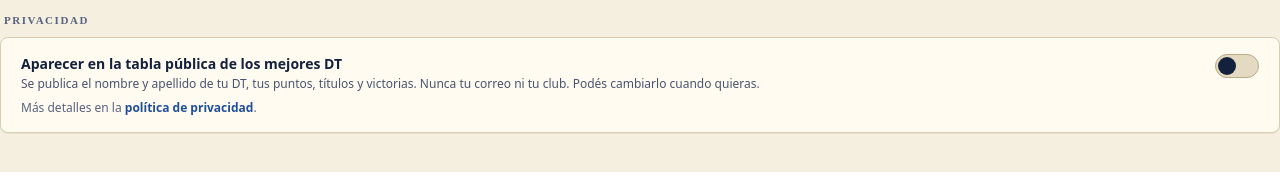
Scenario: privacidad: aparecer en la tabla pública › al activarlo lo guarda; al apagarlo retira el consentimiento
Click the switch named "aparecer en la tabla pública" at coordinates (1237, 66), box left=1215, top=54, right=1259, bottom=78
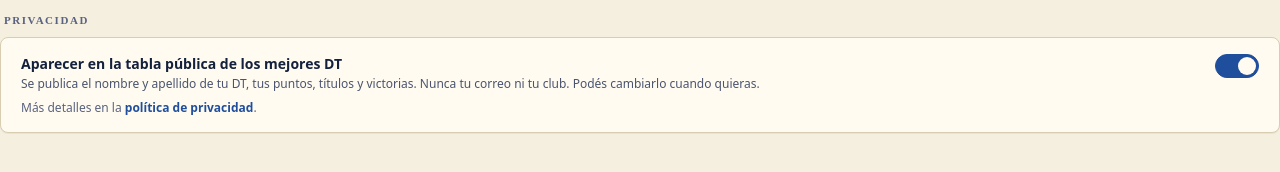
Expected: the switch named "aparecer en la tabla pública" is checked
Click the switch named "aparecer en la tabla pública" at coordinates (1237, 66), box left=1215, top=54, right=1259, bottom=78
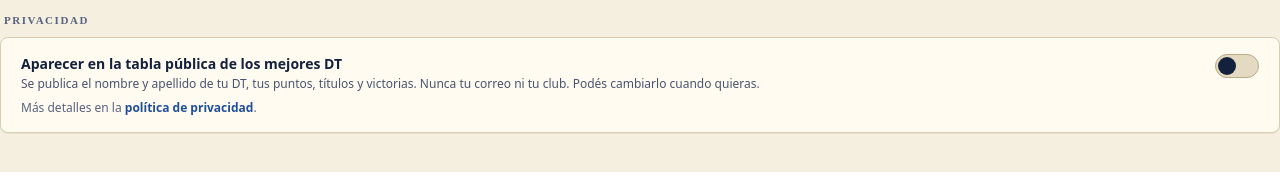
Expected: the switch named "aparecer en la tabla pública" is not checked, left=1215, top=54, right=1259, bottom=78
